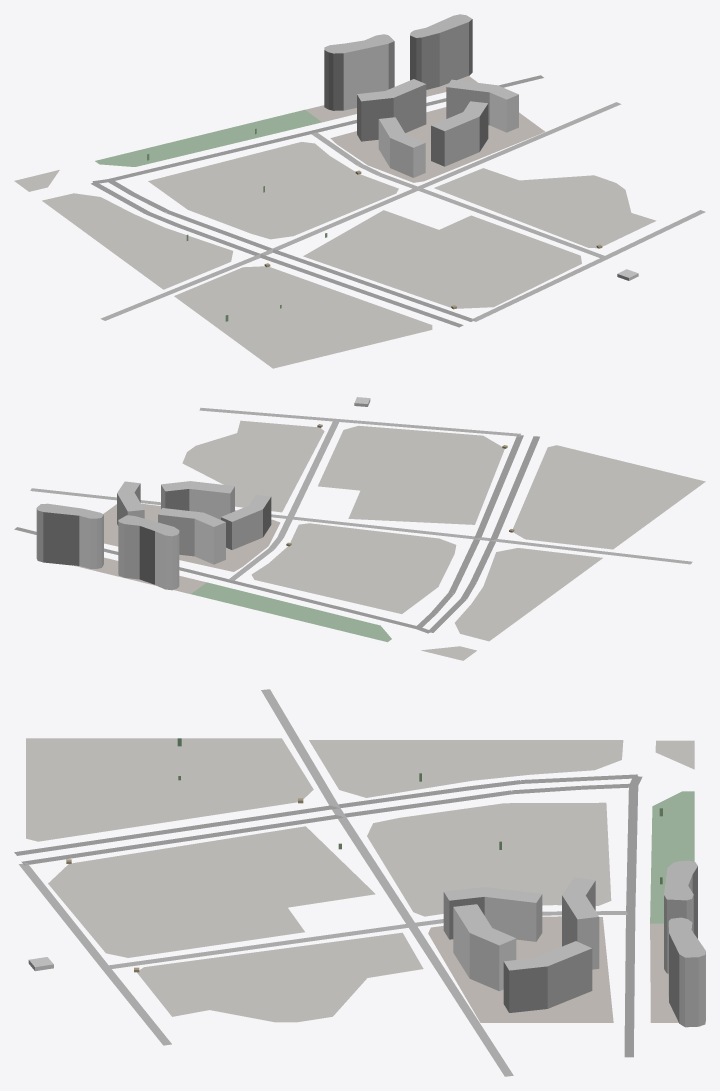
3 renders of one model, top to bottom at view 1: azimuth 30°, elevation 25°; view 2: azimuth 150°, elevation 25°; view 3: azimuth 270°, elevation 25°, orthographic. The views are drawn at different scales.
Size of the model in its own units: 683 by 61.4 by 517.
